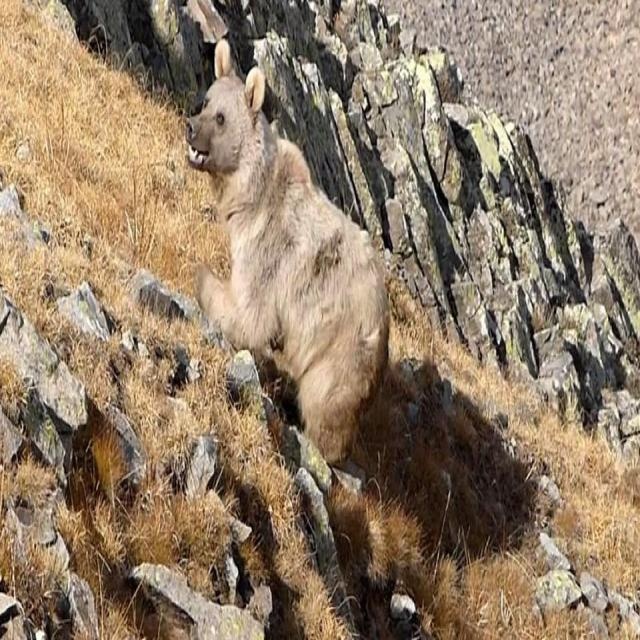Bear: (185, 68, 390, 467)
